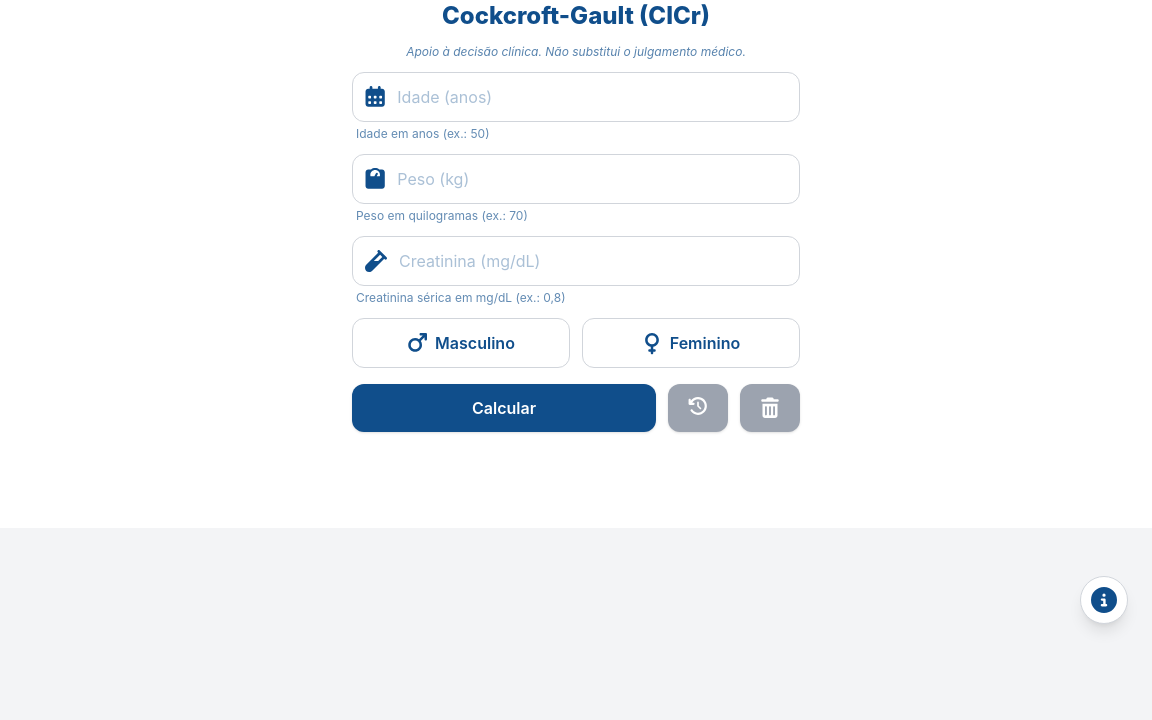
it: Cockcroft-Gault (interface) › CG-1: creatinina em µmol/L é recusada com orientação
This screenshot has width=1152, height=720.
Type "50" into the field with placeholder "Idade (anos)" at (592, 97), box [397,73,787,121]
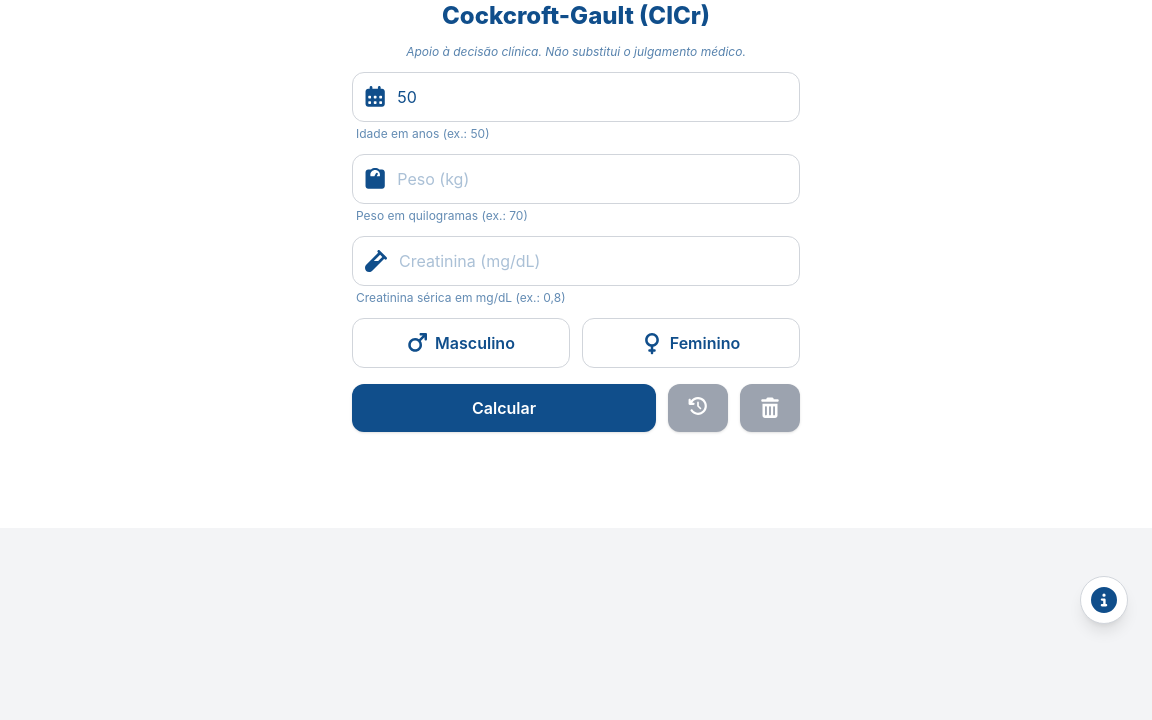
Type "70" into the field with placeholder "Peso (kg)" at (592, 179), box [397,155,787,203]
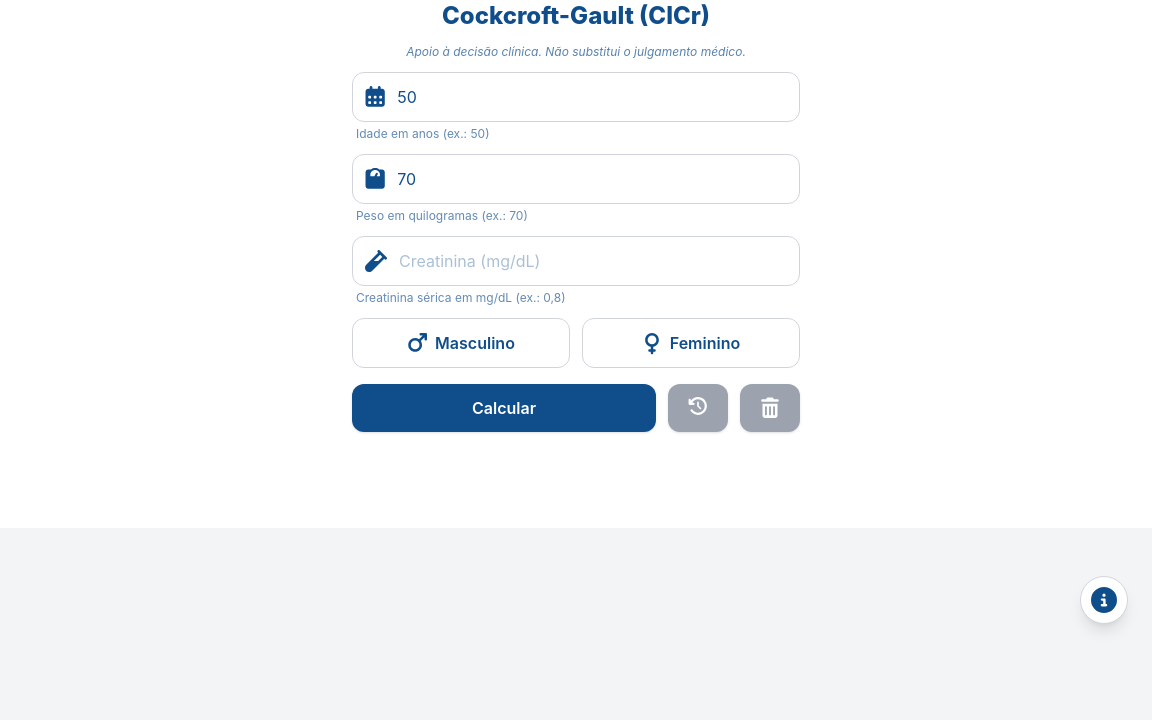
Type "88" into the field with placeholder "Creatinina (mg/dL)" at (593, 261), box [399,237,787,285]
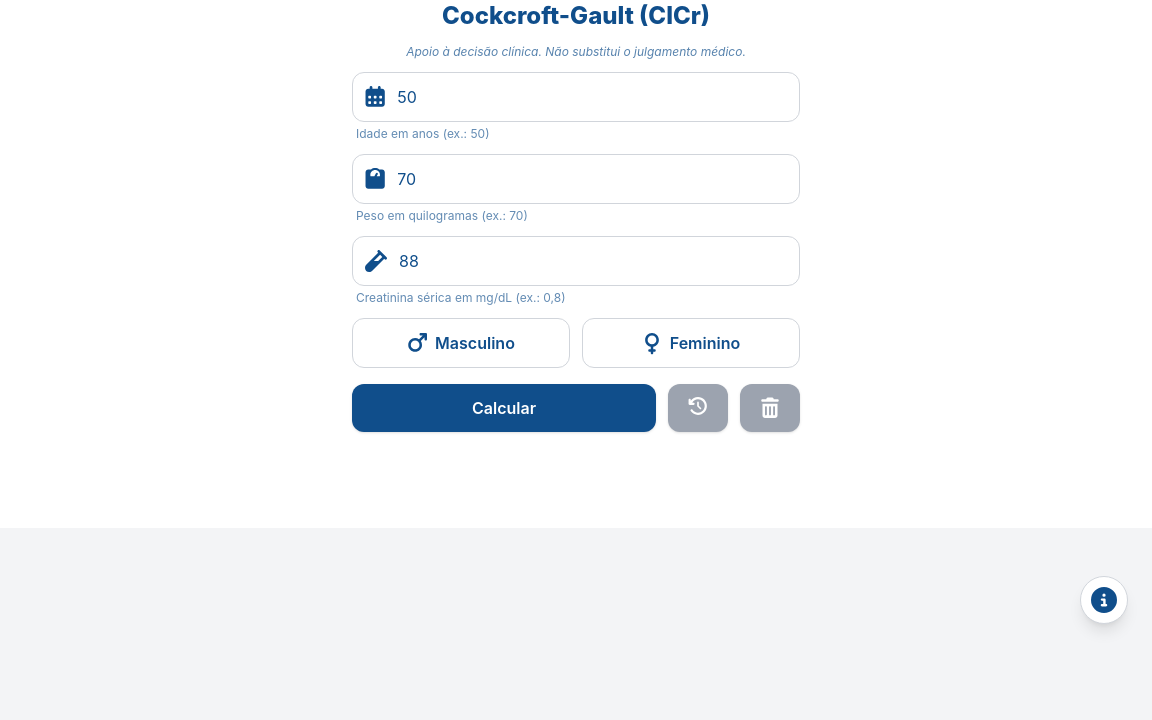
Click the button "Masculino" at (461, 343), box [352,318,570,368]
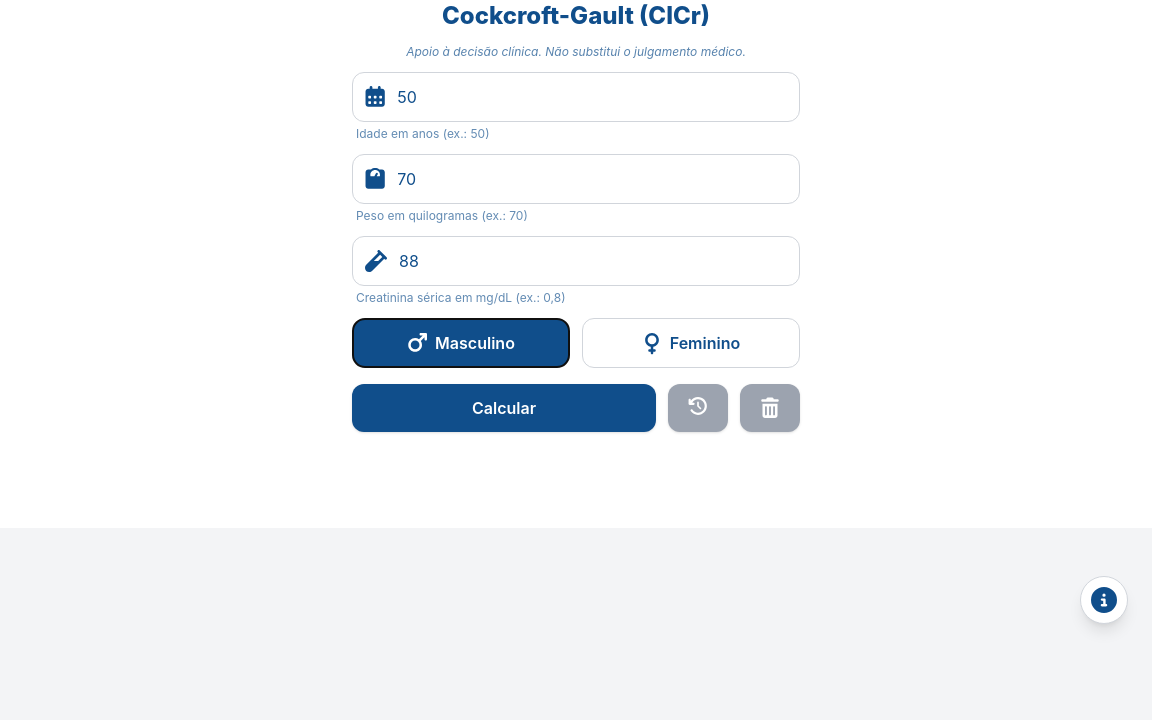
Click the button "Calcular" at (504, 408), box [352,384,656,432]
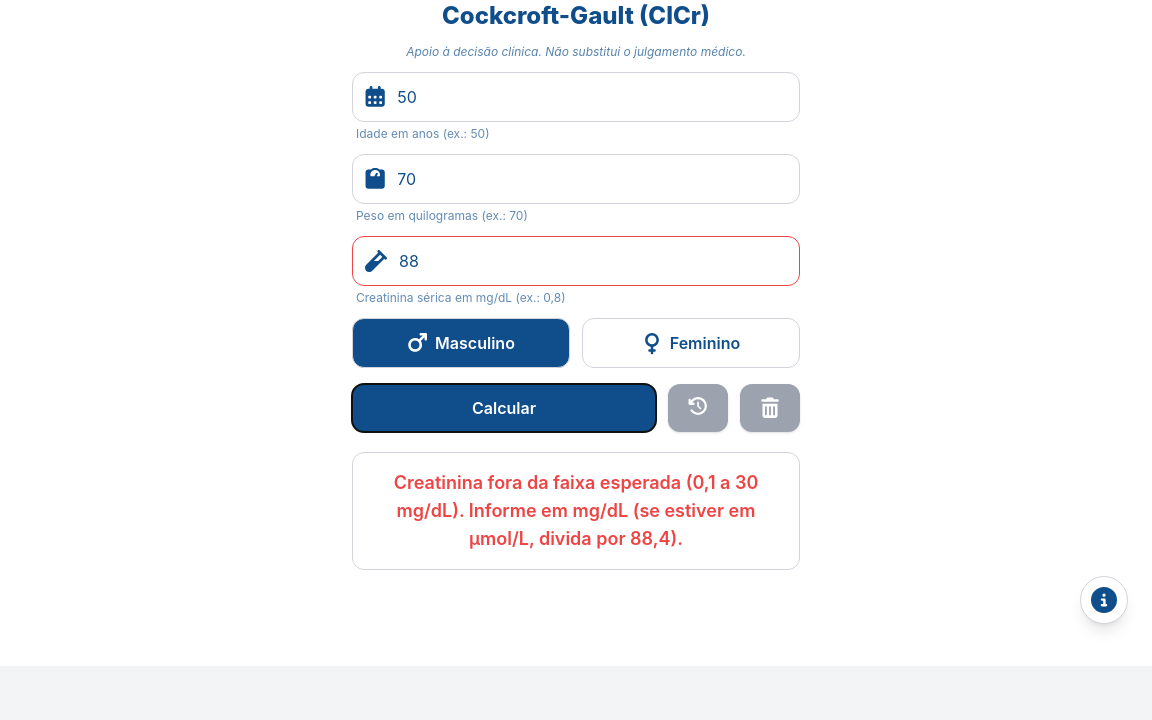
Check: the message shows "divida por 88,4", box [394,472,758,549]
